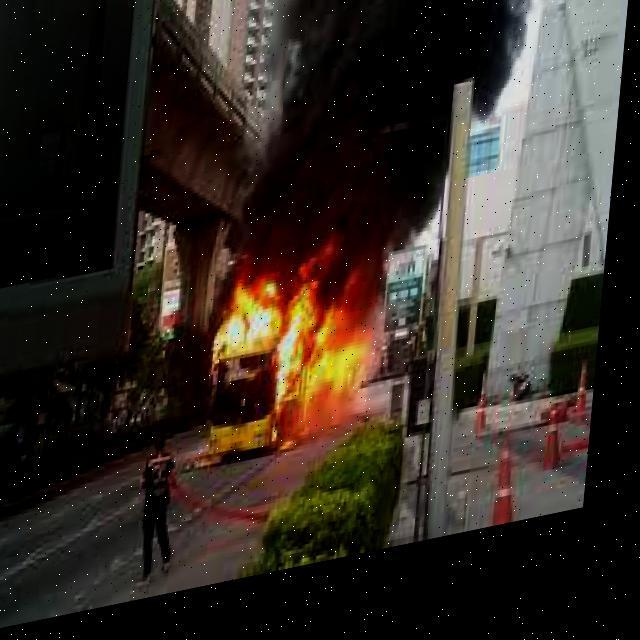Fire: (200, 237, 388, 472)
